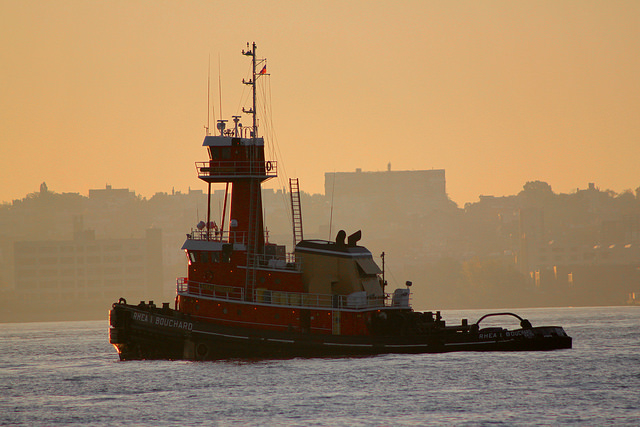tug_boat: (97, 38, 573, 365)
